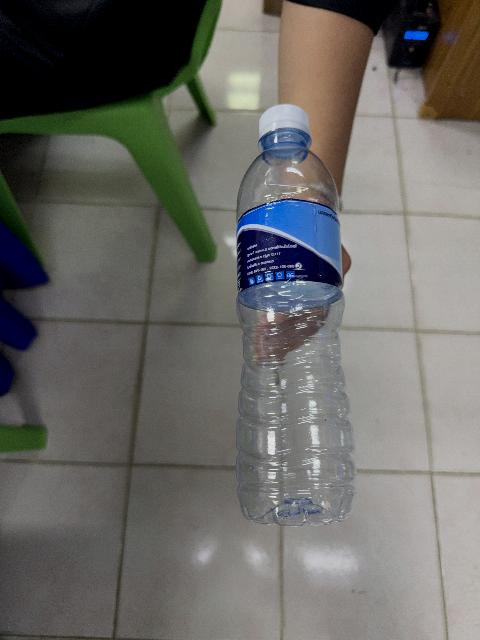bottle: (236, 105, 354, 525)
